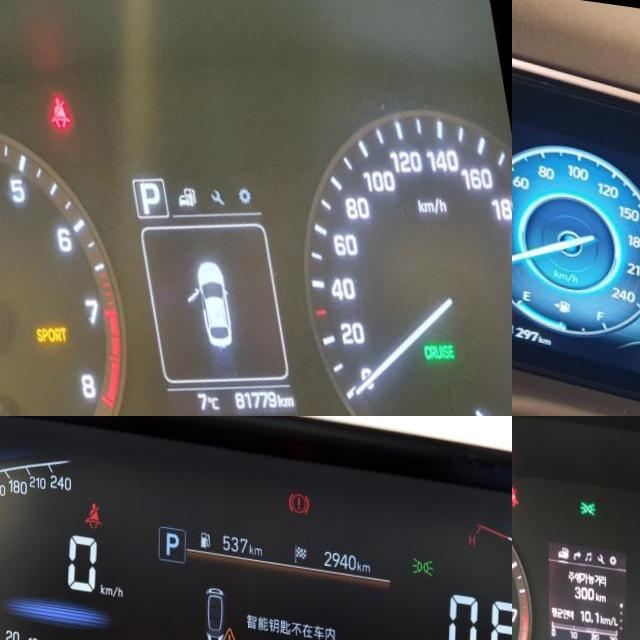Central Warning lamp: (220, 617, 239, 640)
SideLamp: (411, 541, 433, 563), (579, 488, 596, 507)
